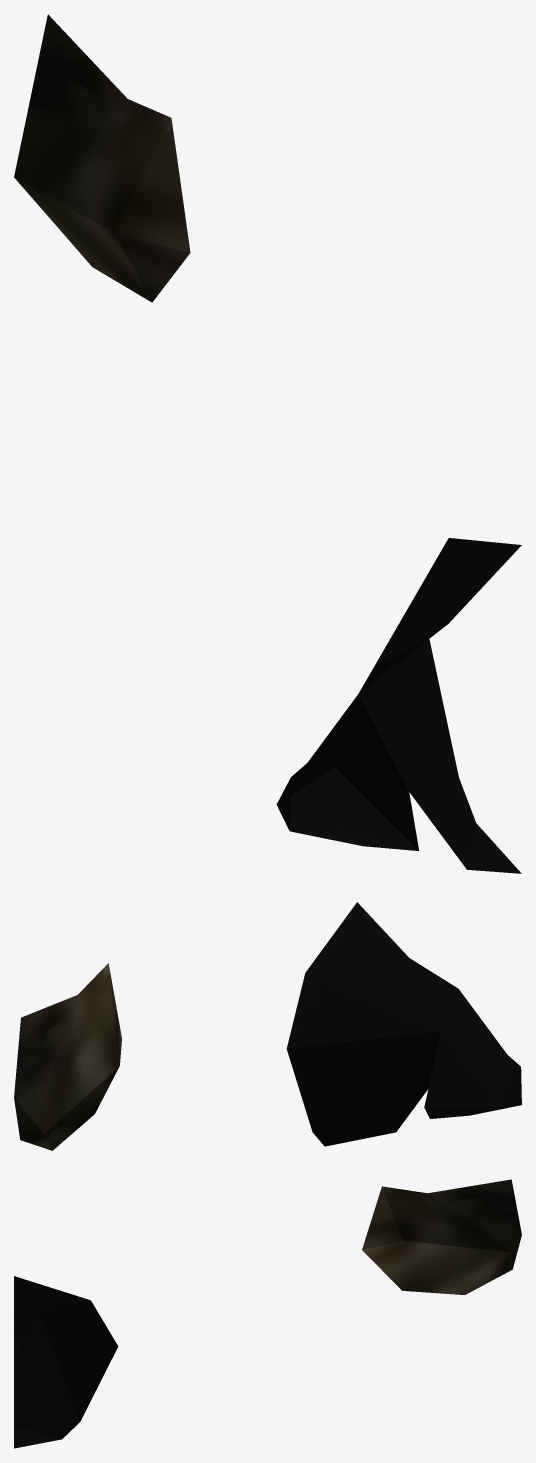
The picture shows the model from 3 angles, top to bottom: view 1: azimuth 30°, elevation 25°; view 2: azimuth 150°, elevation 25°; view 3: azimuth 270°, elevation 25°; orthographic projection. The views are drawn at different scales.
Bounding box in the file's own units: 0.223 × 0.4704 × 0.8047.
1 material, 1 textured.
